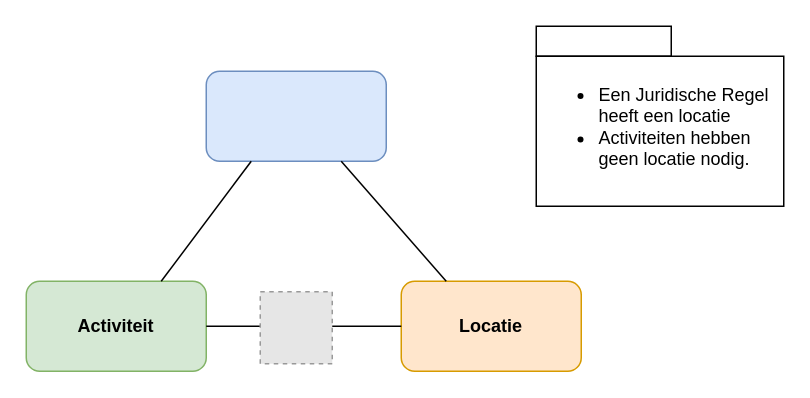
The diagram is 810 pixels wide and 398 high, and some of its shapes have lost their labels. Grey dashed boxes stand in for pictures. Here are the shapes that lost their labels. From the top down, the centre of each, then its label:
At pixel 603 40: "Kamp 2".
At pixel 295 115: "Juridische Regel".
